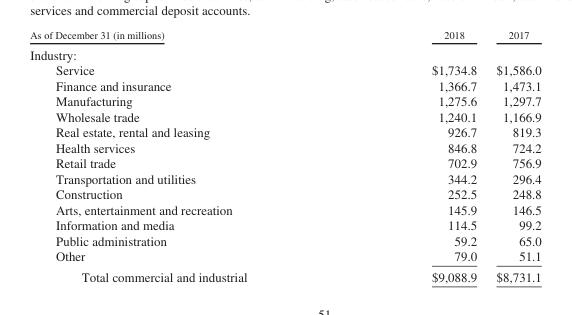table: (29, 28, 540, 283)
table column: (29, 28, 338, 283), (338, 28, 485, 283), (485, 28, 540, 283)
table column header: (29, 28, 540, 43)
table projected row header: (29, 43, 540, 62)
table row: (29, 43, 540, 62), (29, 248, 540, 266), (29, 266, 540, 283), (29, 77, 540, 93), (29, 108, 540, 124), (29, 139, 540, 155), (29, 170, 540, 186), (29, 201, 540, 217), (29, 232, 540, 248), (29, 28, 540, 43), (29, 62, 540, 77), (29, 93, 540, 108), (29, 124, 540, 139), (29, 155, 540, 170), (29, 186, 540, 201), (29, 217, 540, 232)
